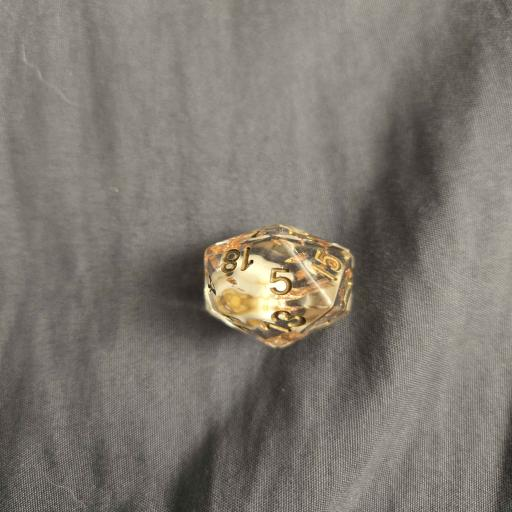twenty sided dice: (203, 224, 354, 348)
